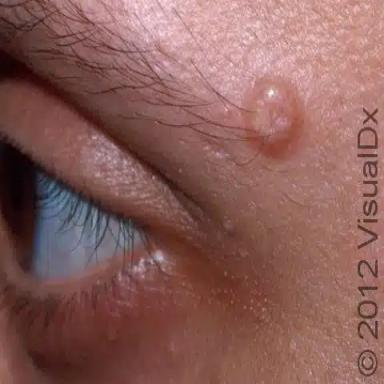Molluscum-Contagiosum: (245, 78, 301, 144)
